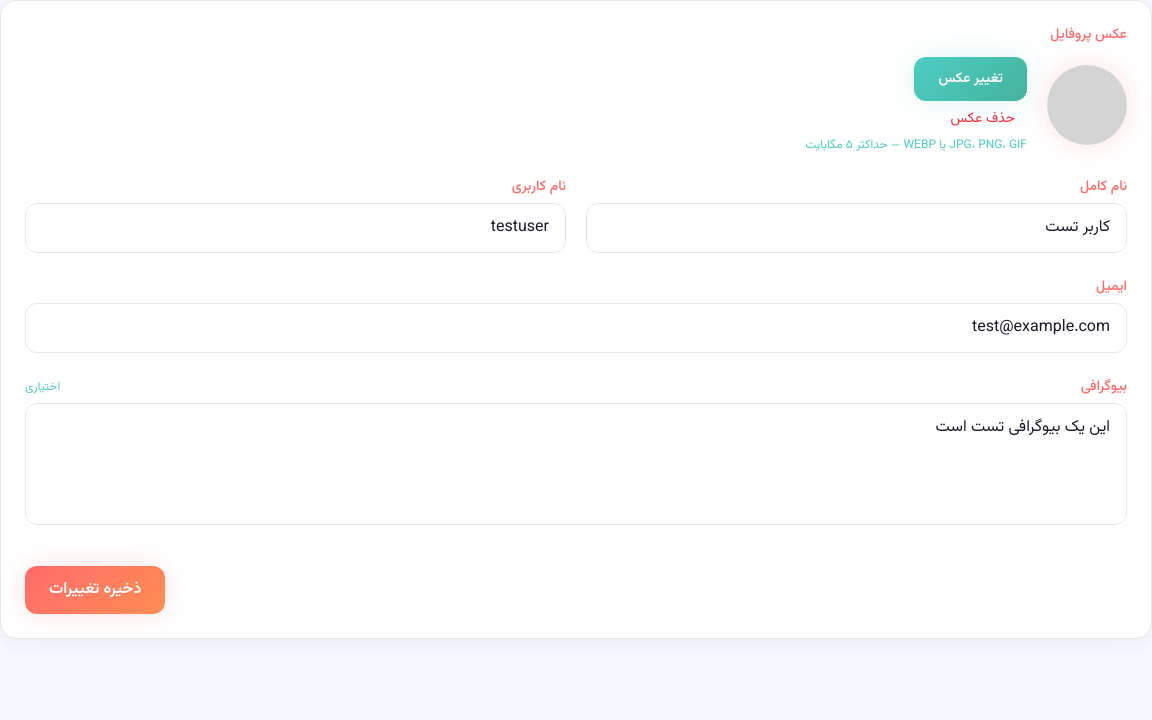
Test case: EditProfileForm Component - Unit Tests › should show validation error (not block typing) for Persian characters
کاراکتر فارسی باید واقعاً وارد اینپوت بشه
Replace the text in the field with placeholder "username" below "نام کاربری" with "ت" at [296, 228], box [25,203,566,253]
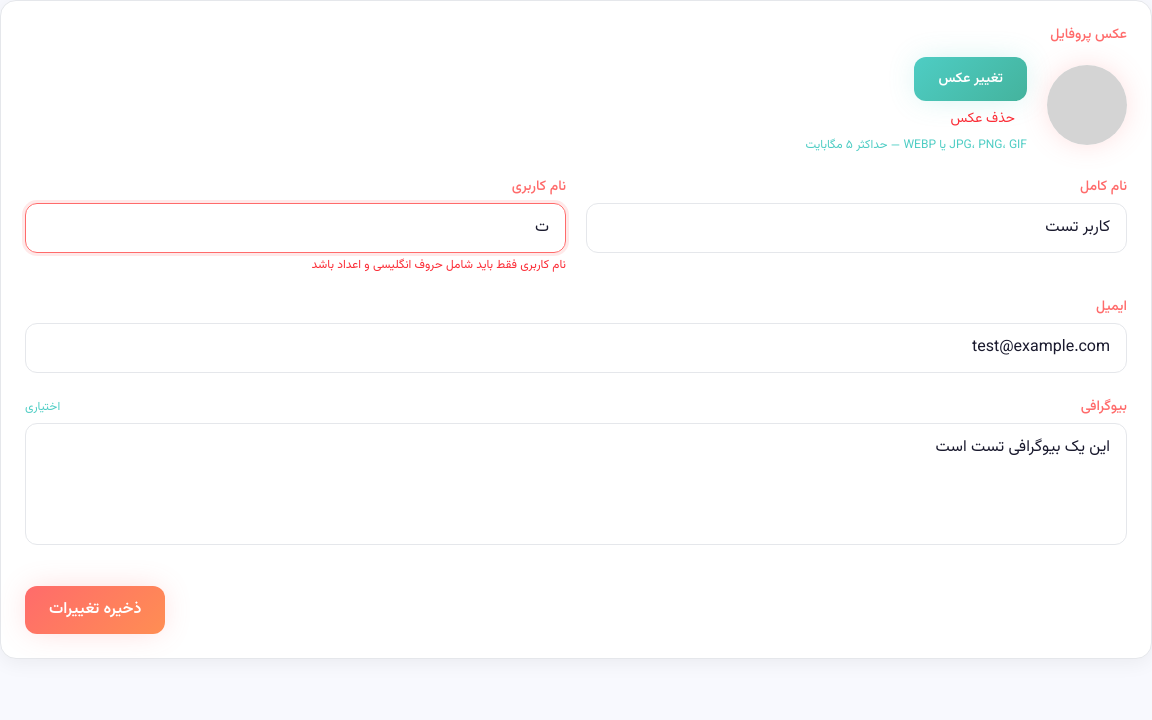
Now the text "نام کاربری فقط باید شامل حروف انگلیسی و اعداد باشد" is shown, box [312,256,566,274]
